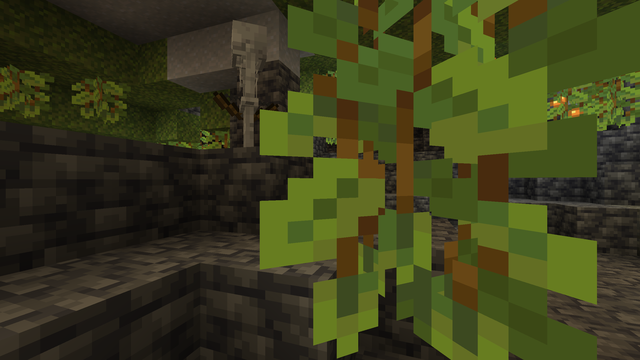squelettes: (220, 17, 273, 129)
